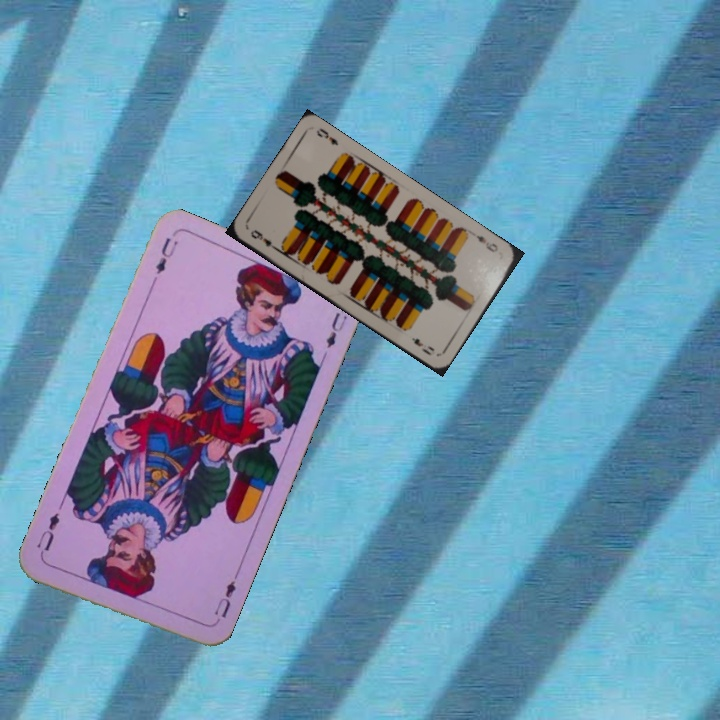E9: (246, 225, 281, 253), (472, 231, 501, 255)
EU: (209, 571, 240, 628), (151, 233, 181, 277)
